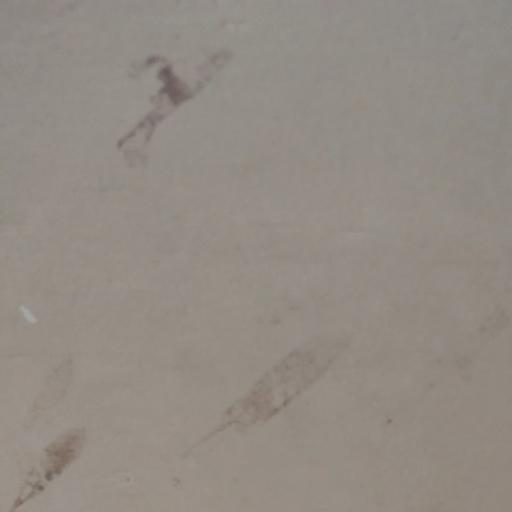stain: (188, 273, 395, 469), (112, 31, 301, 190), (18, 395, 114, 512)
